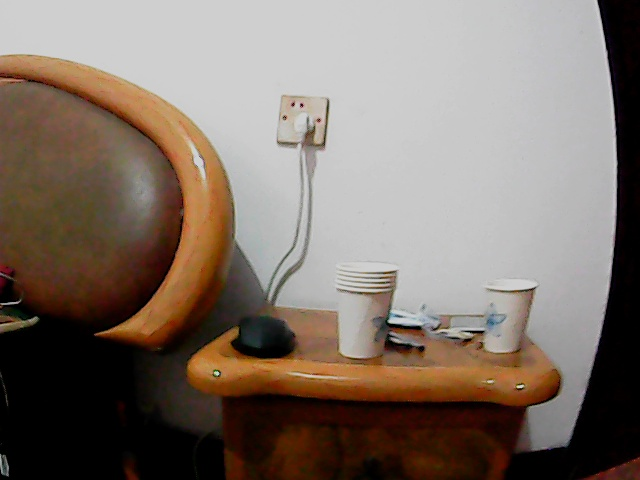cup: (336, 259, 396, 364)
mouse: (230, 310, 297, 359)
